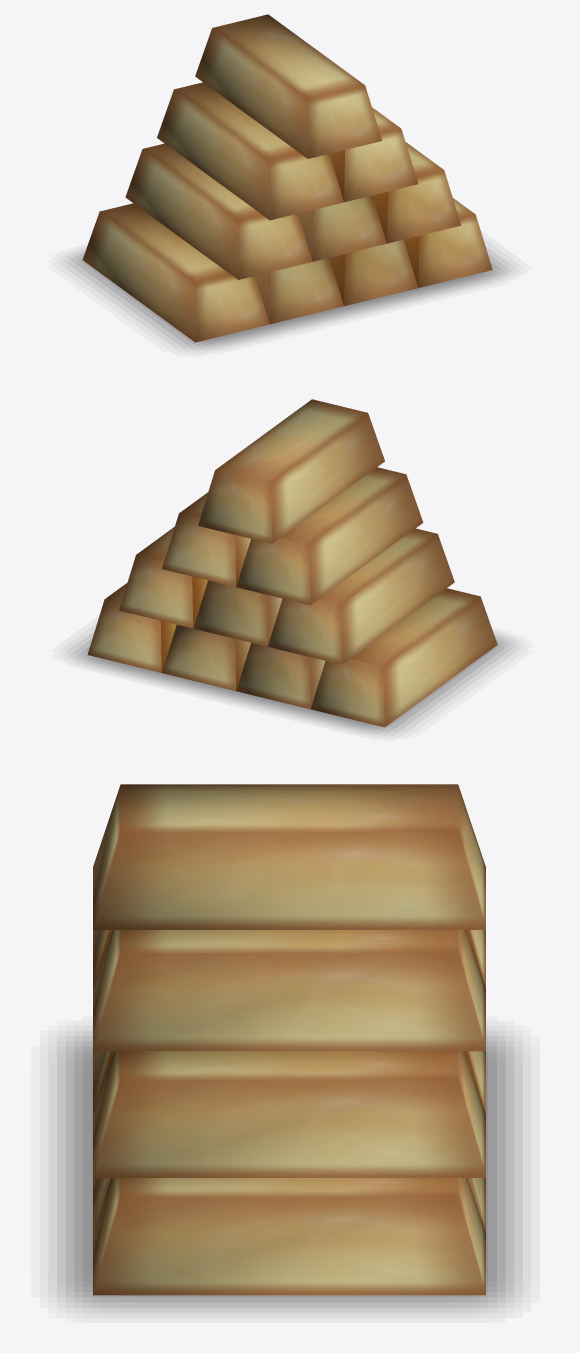
Rendered from mintProduct_12700.glb.
3 renders of one model, top to bottom at view 1: azimuth 30°, elevation 25°; view 2: azimuth 150°, elevation 25°; view 3: azimuth 270°, elevation 25°, orthographic. The views are drawn at different scales.
Parts seen in each view (by area): view 1: GoldBar5, GoldBar21, GoldBar6, GoldBar18, GoldStackShadow1, GoldBar16, GoldBar4, GoldBar22, GoldBar20, GoldBar19, GoldBar17; view 2: GoldBar5, GoldBar21, GoldBar6, GoldBar18, GoldStackShadow1, GoldBar16, GoldBar4, GoldBar22, GoldBar19, GoldBar20, GoldBar17; view 3: GoldBar5, GoldBar16, GoldBar4, GoldBar22, GoldStackShadow1, GoldBar17, GoldBar6, GoldBar20.
Boxes of the visible parts, box(x1,y1,x2,y2) form: GoldBar5: box(195, 14, 382, 158); GoldBar21: box(82, 203, 269, 342); GoldBar6: box(157, 82, 343, 220); GoldBar18: box(125, 143, 312, 279); GoldStackShadow1: box(65, 247, 511, 350); GoldBar16: box(372, 142, 461, 243); GoldBar4: box(329, 107, 418, 202); GoldBar22: box(403, 198, 492, 287); GoldBar20: box(329, 239, 418, 306); GoldBar19: box(255, 258, 343, 324); GoldBar17: box(298, 195, 386, 261); GoldBar5: box(198, 399, 384, 543); GoldBar21: box(310, 588, 497, 727); GoldBar6: box(236, 467, 423, 605); GoldBar18: box(267, 528, 454, 664); GoldStackShadow1: box(68, 632, 515, 733); GoldBar16: box(119, 527, 207, 628); GoldBar4: box(162, 492, 250, 586); GoldBar22: box(87, 583, 176, 672); GoldBar19: box(236, 643, 325, 709); GoldBar20: box(162, 624, 250, 690); GoldBar17: box(193, 580, 282, 646); GoldBar5: box(93, 784, 485, 929); GoldBar16: box(93, 1051, 485, 1177); GoldBar4: box(93, 930, 485, 1051); GoldBar22: box(93, 1178, 485, 1295); GoldStackShadow1: box(57, 1031, 522, 1312); GoldBar17: box(93, 1051, 485, 1114); GoldBar6: box(93, 930, 485, 987); GoldBar20: box(93, 1178, 485, 1231).
Size of the model in its own units: 8.07 by 4.08 by 5.64.
Materials: 3 (3 with a texture image).
